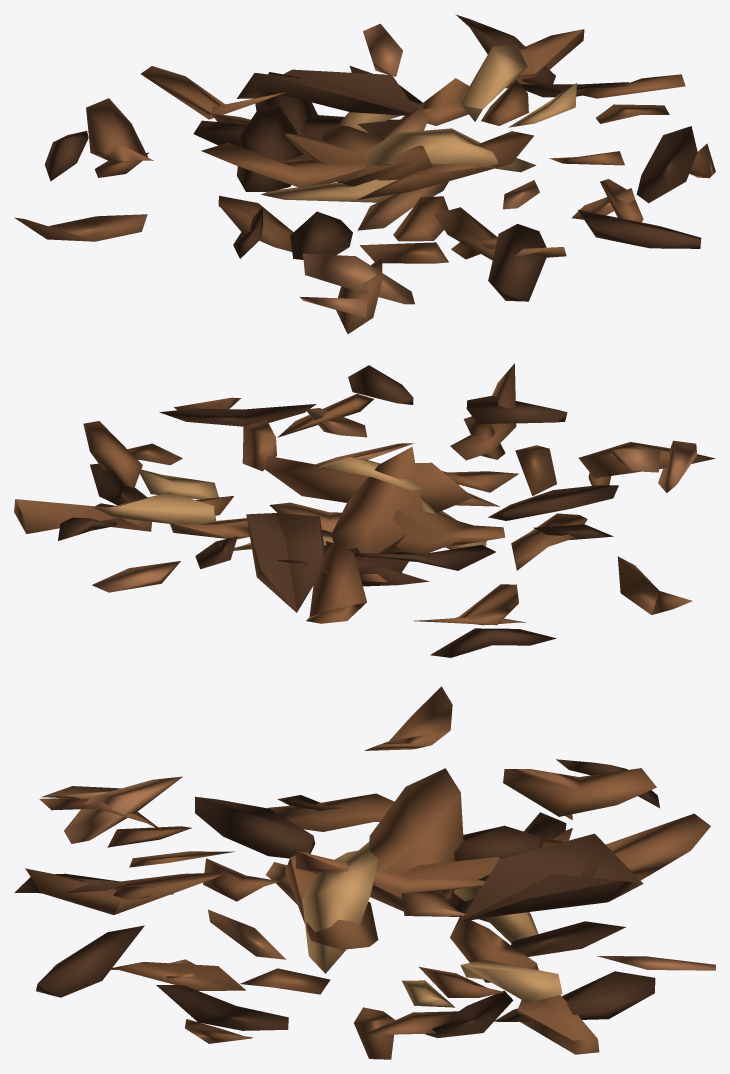
Rendered from canopy_gc_bark_bits_b_lod1.glb.
3 views of the same model, one above another, from view 1: azimuth 30°, elevation 25°; view 2: azimuth 150°, elevation 25°; view 3: azimuth 270°, elevation 25° (orthographic). The views are drawn at different scales.
Parts seen in each view (by area): view 1: canopy_gc_bark_bits_b.001; view 2: canopy_gc_bark_bits_b.001; view 3: canopy_gc_bark_bits_b.001.
Boxes of the visible parts, bbox=[...] form: canopy_gc_bark_bits_b.001: bbox=[14, 14, 715, 333]; canopy_gc_bark_bits_b.001: bbox=[14, 363, 715, 657]; canopy_gc_bark_bits_b.001: bbox=[14, 686, 715, 1059].
Bounding box in the file's own units: 5.95 × 0.4788 × 4.99.
